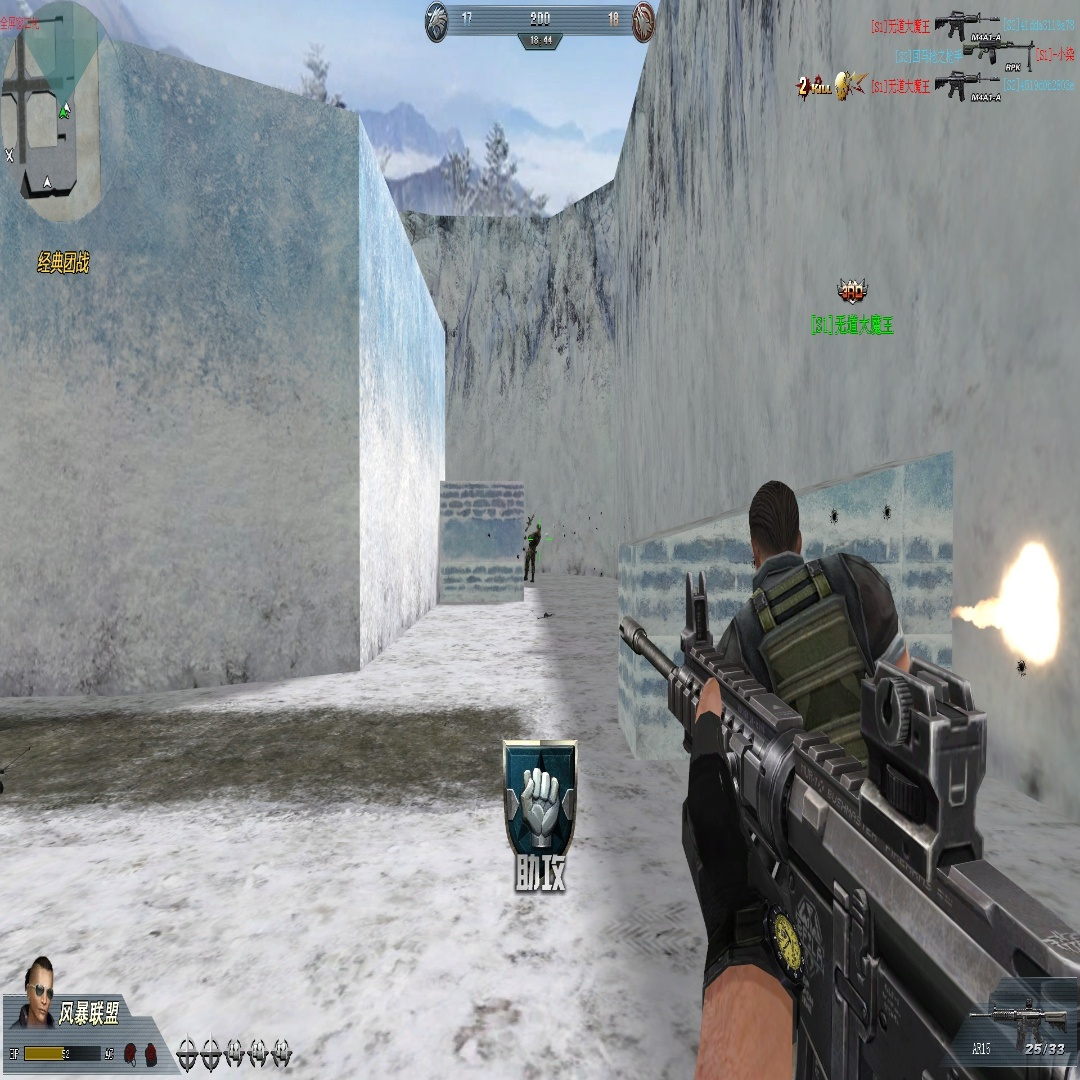head: (748, 475, 804, 574)
t: (711, 477, 911, 740)
